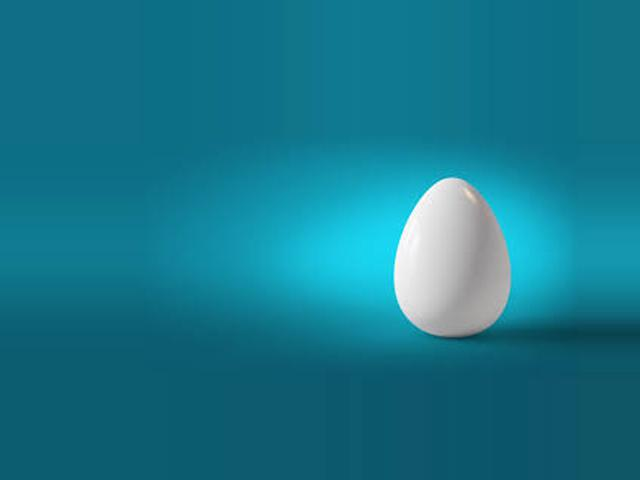egg: (393, 178, 512, 338)
